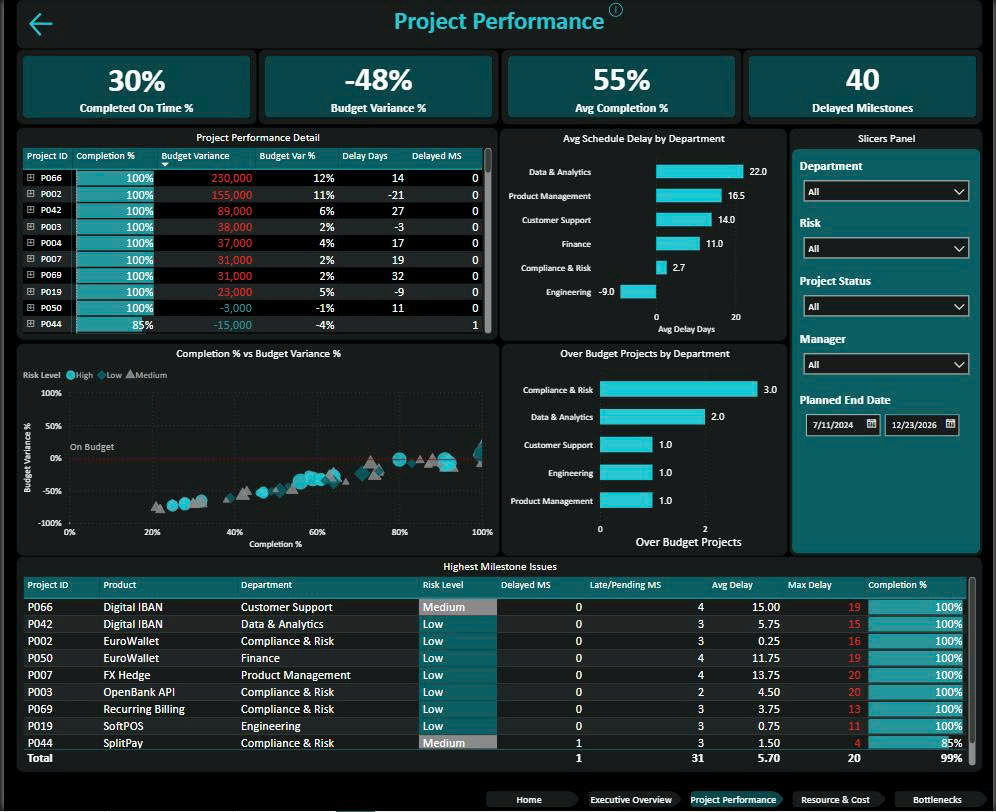

Layout of this report page (visuals, bound fields, positions):
{"tool":"powerbi","page":{"name":"Project Performance","canvas":[1280,1050],"ordinal":2},"visuals":[{"type":"textbox","box":[15.6,0,1249.8,65.2],"z":0},{"type":"cardVisual","fields":{"Data":["KPI_Measures.Completed On Time %"]},"box":[15.6,65.2,312,98.2],"z":1000},{"type":"cardVisual","fields":{"Data":["KPI_Measures.Budget Variance %"]},"box":[329.1,65,312,98],"z":2000},{"type":"cardVisual","fields":{"Data":["KPI_Measures.Avg Completion %"]},"box":[642.1,65,312,98],"z":3000},{"type":"cardVisual","fields":{"Data":["KPI_Measures.Delayed Milestones"]},"box":[954.1,65,312,98],"z":4000},{"type":"pivotTable","title":"Project Performance Detail","fields":{"Rows":["dim_project.project_id","dim_project.product_name","dim_department.department_name","dim_project.project_status","dim_project.risk_level"],"Values":["KPI_Measures.Avg Completion %","KPI_Measures.Budget Variance EUR","KPI_Measures.Budget Variance %","KPI_Measures.Avg Schedule Delay Days","KPI_Measures.Delayed Milestones"]},"box":[16,166.1,624,275.8],"z":5000},{"type":"scatterChart","title":"Completion % vs Budget Variance %","fields":{"X":["KPI_Measures.Avg Completion %"],"Y":["KPI_Measures.Budget Variance %"],"Size":["KPI_Measures.Total Actual Budget EUR"],"Series":["dim_project.risk_level"],"Category":["dim_project.project_id"]},"box":[16,444.6,625.6,275.9],"z":6000},{"type":"shape","box":[85,570.2,535.7,50.5],"z":7000},{"type":"clusteredBarChart","title":"Avg Schedule Delay by Department","fields":{"Category":["dim_department.department_name"],"Y":["KPI_Measures.Avg Schedule Delay Days"]},"box":[640.4,166.3,373.2,275.9],"z":8000},{"type":"clusteredBarChart","title":"Over Budget Projects by Department","fields":{"Category":["dim_department.department_name"],"Y":["KPI_Measures.Over Budget Projects"]},"box":[642.4,444.6,370.7,276.1],"z":9000},{"type":"tableEx","title":"Highest Milestone Issues","fields":{"Values":["dim_project.project_id","dim_project.product_name","dim_department.department_name","dim_project.risk_level","KPI_Measures.Delayed Milestones","KPI_Measures.Late/Pending Milestones","KPI_Measures.Avg Milestone Delay Days","KPI_Measures.Max Milestone Delay Days","KPI_Measures.Avg Completion %"]},"box":[16,720.4,1250,279.6],"z":10000},{"type":"shape","title":"Slicers Panel","box":[1014.8,166.3,251.2,554.2],"z":11000},{"type":"slicer","title":"Department","fields":{"Values":["dim_department.department_name"]},"box":[1024.6,205.7,234,62.8],"z":12000},{"type":"slicer","title":"Risk ","fields":{"Values":["dim_project.risk_level"]},"box":[1024.6,279.8,234,62.8],"z":13000},{"type":"slicer","title":"Project Status","fields":{"Values":["dim_project.project_status"]},"box":[1024.6,353.7,234,62.8],"z":14000},{"type":"slicer","title":"Planned End Date","fields":{"Values":["dim_project.planned_end_date"]},"box":[1024.6,507.6,234,62.8],"z":15000},{"type":"slicer","title":"Manager","fields":{"Values":["dim_project.project_manager_name"]},"box":[1024.6,428.8,234,62.8],"z":16000},{"type":"pageNavigator","box":[619.4,1020.3,660.8,29.7],"z":17000},{"type":"actionButton","box":[29,13,121,40],"z":18000},{"type":"actionButton","title":"KPI ON","box":[777,0,28,28],"z":19000}]}

Visuals, with their boxes in screenshot pixels (x1, y1, x2, y2), scaled from the page's 1280x1050 canvas onto the 996x812 screenshot:
textbox: bbox(12, 0, 985, 50)
cardVisual - KPI_Measures.Completed On Time %: bbox(12, 50, 255, 126)
cardVisual - KPI_Measures.Budget Variance %: bbox(256, 50, 499, 126)
cardVisual - KPI_Measures.Avg Completion %: bbox(500, 50, 742, 126)
cardVisual - KPI_Measures.Delayed Milestones: bbox(742, 50, 985, 126)
"Project Performance Detail" pivotTable: bbox(12, 128, 498, 342)
"Completion % vs Budget Variance %" scatterChart: bbox(12, 344, 499, 557)
shape: bbox(66, 441, 483, 480)
"Avg Schedule Delay by Department" clusteredBarChart: bbox(498, 129, 789, 342)
"Over Budget Projects by Department" clusteredBarChart: bbox(500, 344, 788, 557)
"Highest Milestone Issues" tableEx: bbox(12, 557, 985, 773)
"Slicers Panel" shape: bbox(790, 129, 985, 557)
"Department" slicer: bbox(797, 159, 979, 208)
"Risk " slicer: bbox(797, 216, 979, 265)
"Project Status" slicer: bbox(797, 274, 979, 322)
"Planned End Date" slicer: bbox(797, 393, 979, 441)
"Manager" slicer: bbox(797, 332, 979, 380)
pageNavigator: bbox(482, 789, 995, 811)
actionButton: bbox(23, 10, 117, 41)
"KPI ON" actionButton: bbox(605, 0, 626, 22)
